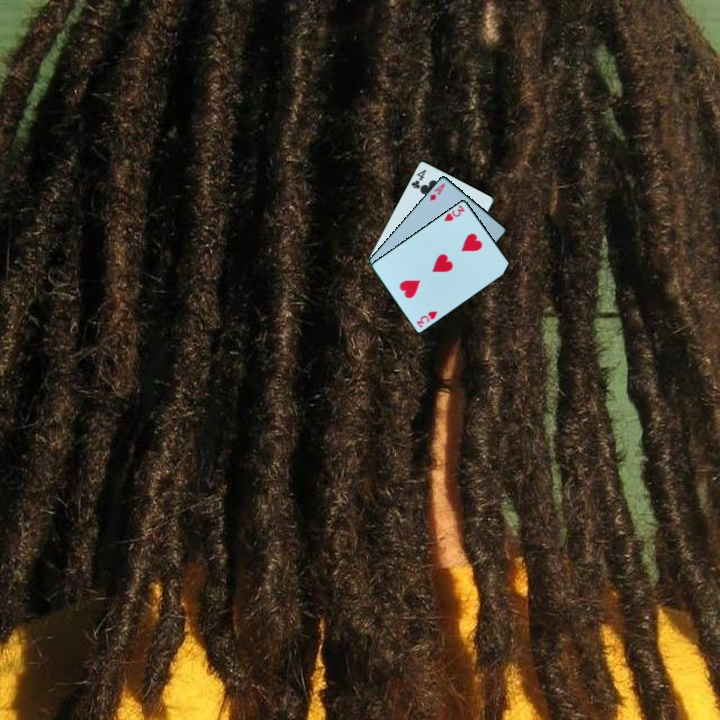3h: (413, 307, 440, 330), (441, 201, 467, 224)
4c: (408, 166, 429, 191)
Ad: (426, 180, 448, 204)
